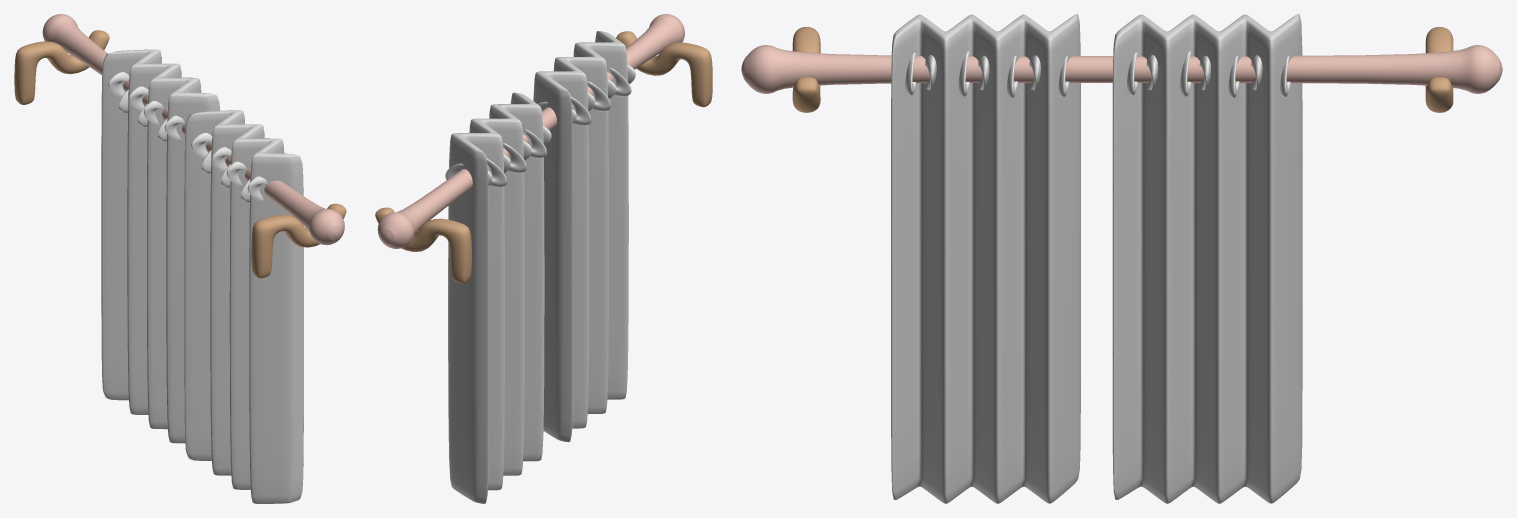
File: curtain.fbx
3 renders of one model, left to right at view 1: azimuth 30°, elevation 25°; view 2: azimuth 150°, elevation 25°; view 3: azimuth 270°, elevation 25°, orthographic. The views are drawn at different scales.
Visible parts, largest first — view 1: CURTAIN, CURTAIN.001, curtain rod, curtain holder.001, curtain holder; view 2: CURTAIN.001, CURTAIN, curtain rod, curtain holder, curtain holder.001, Torus.003; view 3: CURTAIN.001, CURTAIN, curtain rod, curtain holder, curtain holder.001.
Boxes of the visible parts, x1=… form: CURTAIN: x1=184, y1=110, x2=303, y2=503; CURTAIN.001: x1=101, y1=49, x2=219, y2=443; curtain rod: x1=42, y1=14, x2=344, y2=245; curtain holder.001: x1=14, y1=30, x2=109, y2=104; curtain holder: x1=251, y1=203, x2=346, y2=278; CURTAIN.001: x1=448, y1=92, x2=544, y2=503; CURTAIN: x1=533, y1=31, x2=628, y2=442; curtain rod: x1=377, y1=14, x2=684, y2=248; curtain holder: x1=616, y1=31, x2=712, y2=107; curtain holder.001: x1=375, y1=207, x2=471, y2=283; Torus.003: x1=587, y1=81, x2=611, y2=111; CURTAIN.001: x1=1112, y1=14, x2=1302, y2=503; CURTAIN: x1=891, y1=14, x2=1080, y2=503; curtain rod: x1=741, y1=45, x2=1502, y2=93; curtain holder: x1=792, y1=27, x2=820, y2=112; curtain holder.001: x1=1425, y1=27, x2=1453, y2=112.
Bounding box in the file's own units: 0.3489 × 1.28 × 1.88.
